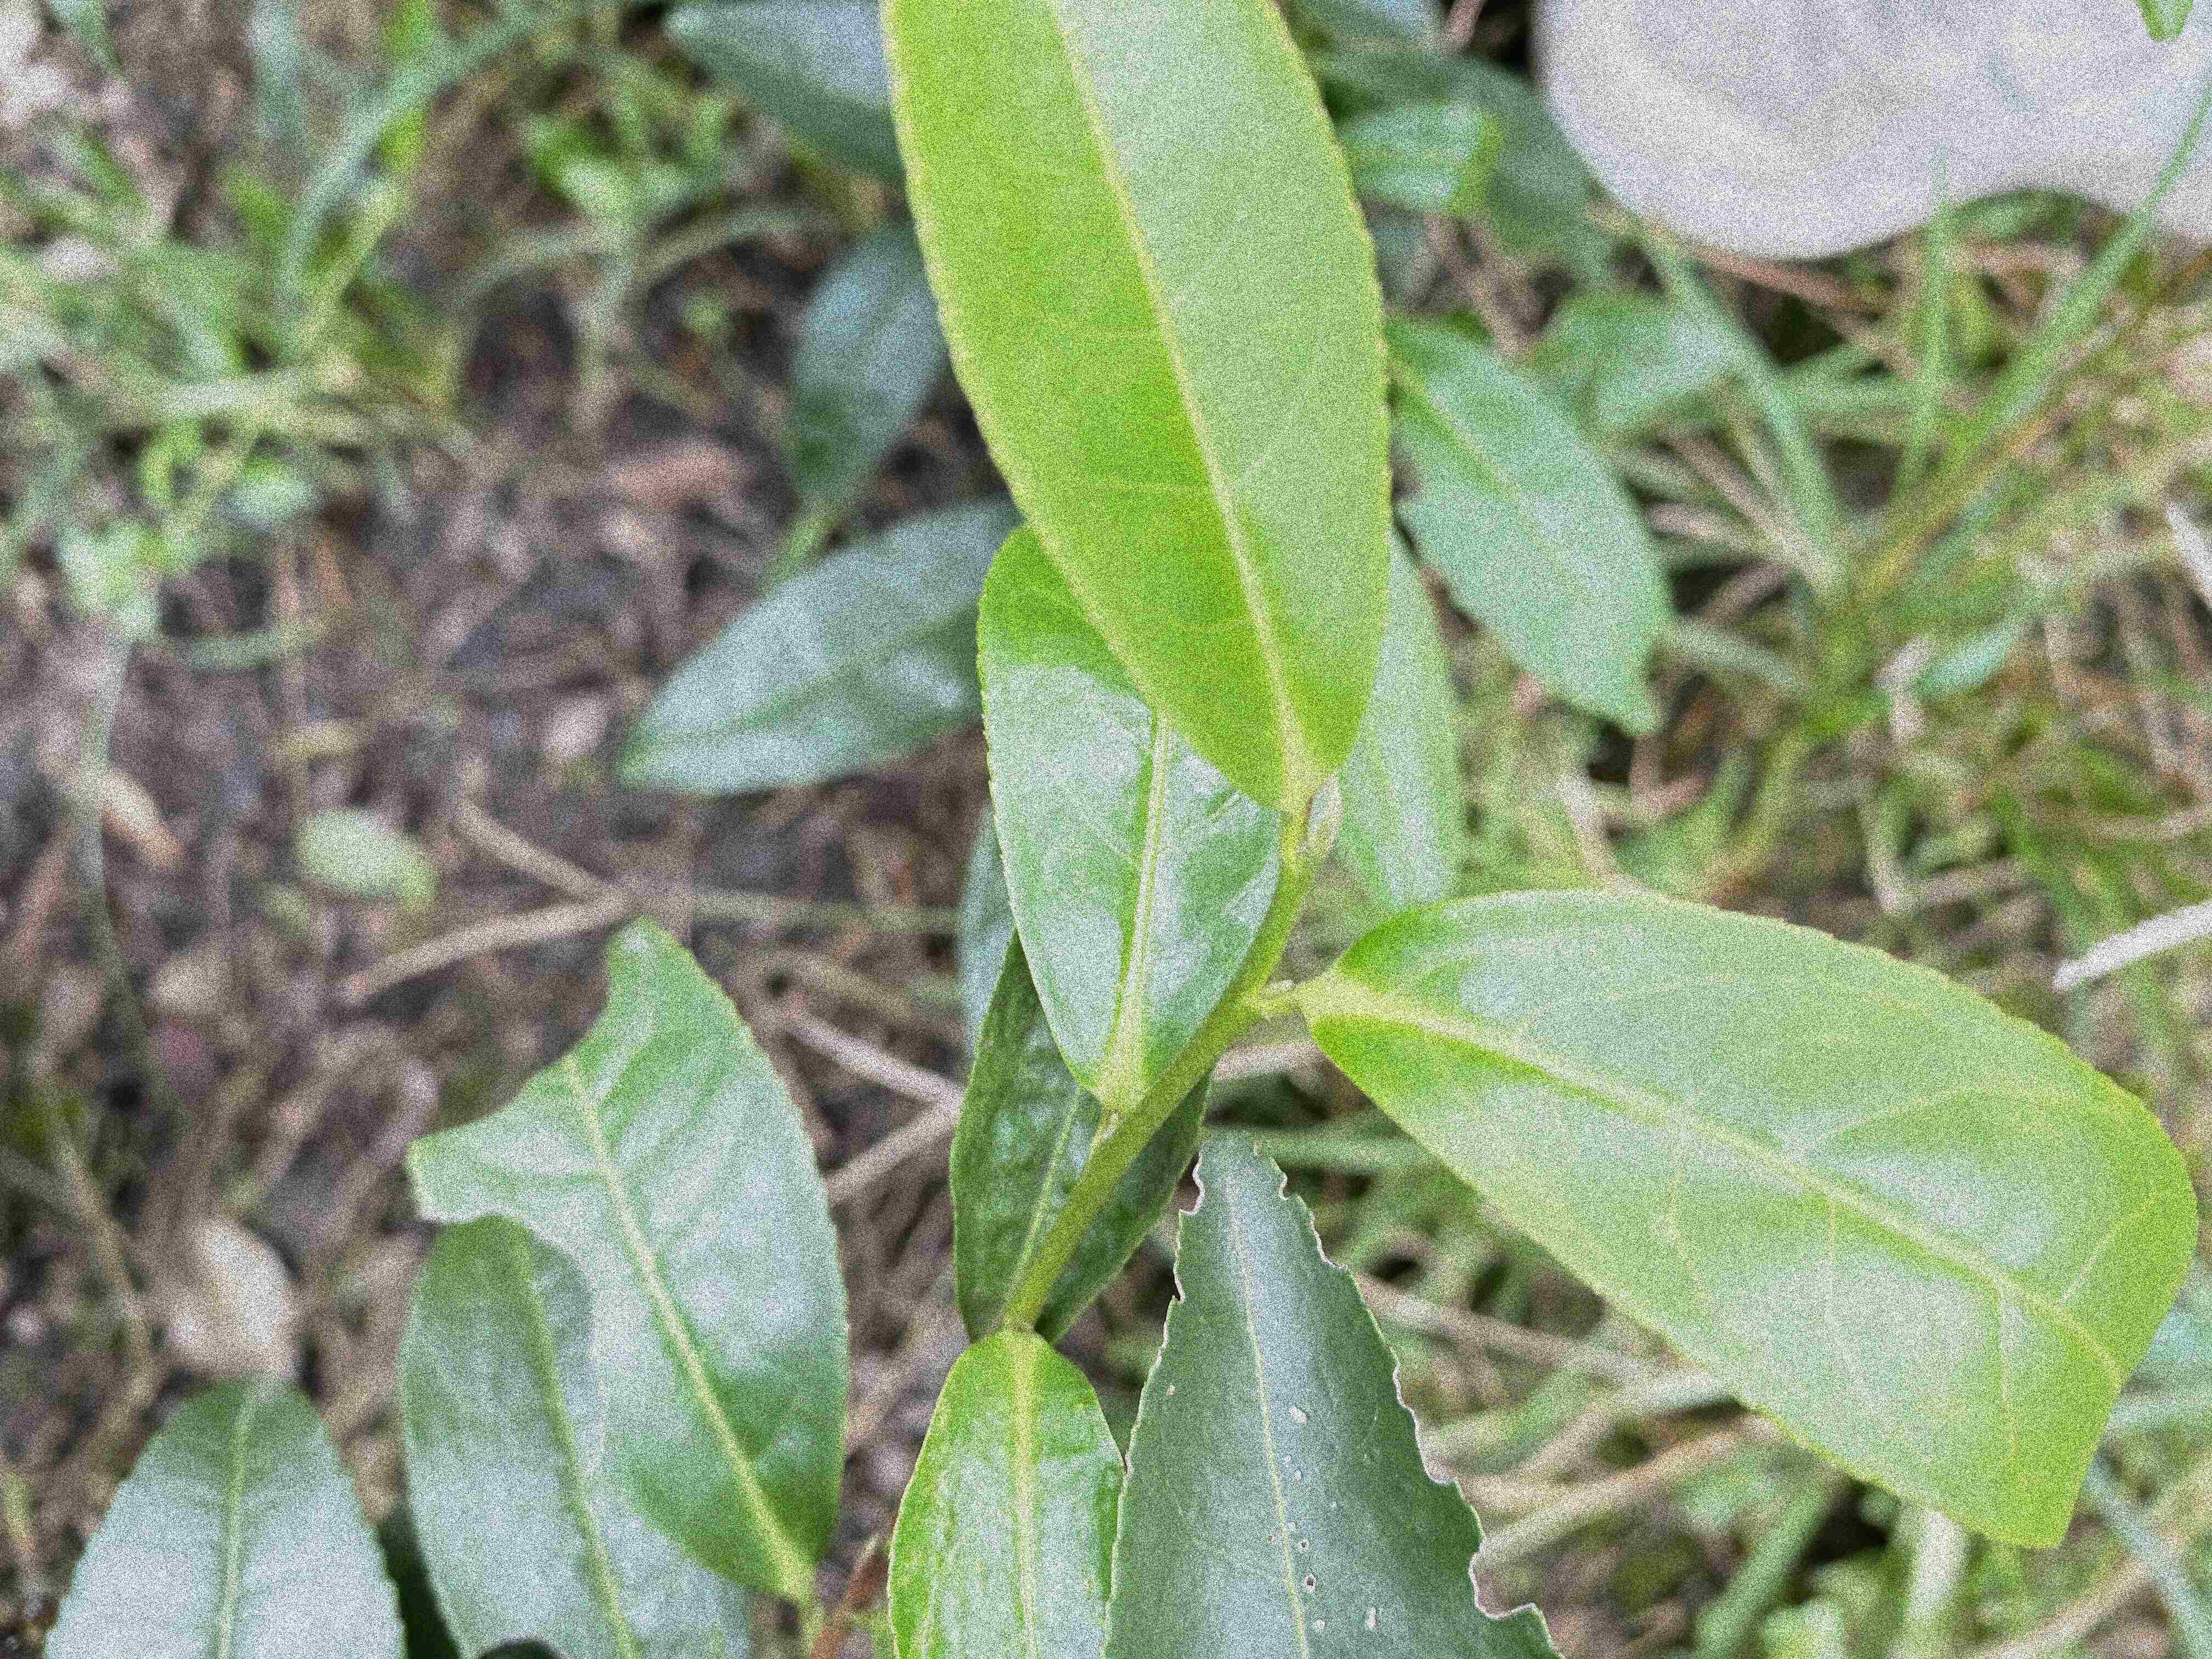chihuo_high: (399, 910, 855, 1601), (1097, 1124, 1569, 1656)
healthy: (1310, 885, 2202, 1553), (876, 0, 1393, 805)
